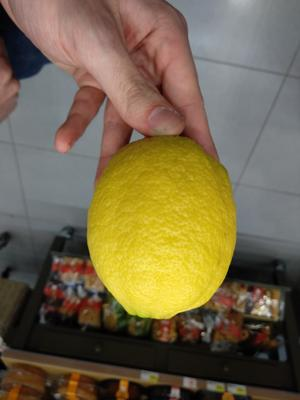lemon: (0, 0, 300, 400)
